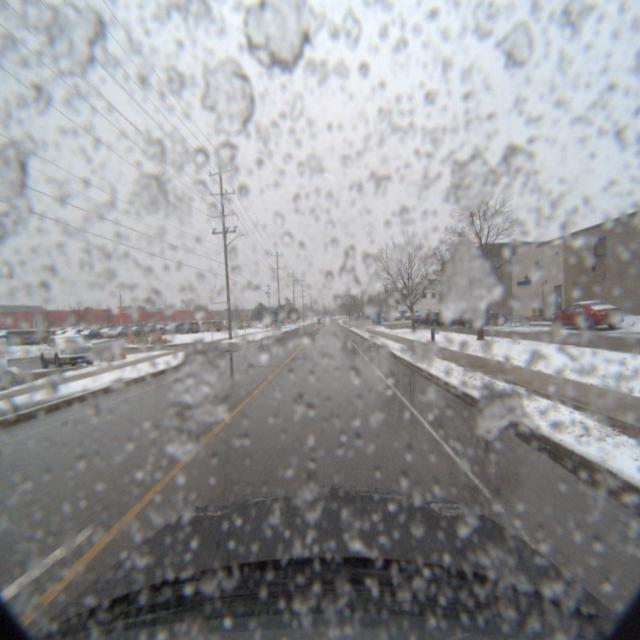Car: (542, 298, 626, 331), (454, 308, 504, 328), (436, 309, 476, 327), (167, 320, 201, 336)
Truck: (34, 332, 96, 374)
